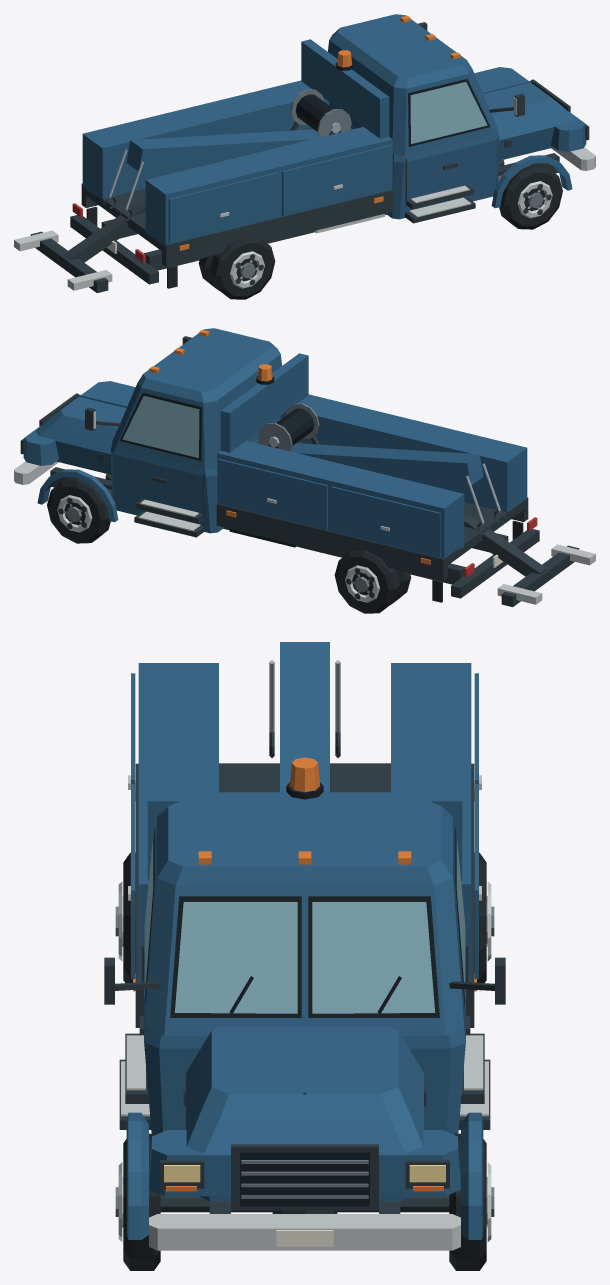
Rendered from b15_wheel_lift_tow_truck.glb.
3 views of the same model, one above another, from view 1: azimuth 30°, elevation 25°; view 2: azimuth 150°, elevation 25°; view 3: azimuth 270°, elevation 25° (orthographic). The views are drawn at different scales.
Visible parts, largest first — view 1: b15_wheel_lift_tow_truck; view 2: b15_wheel_lift_tow_truck; view 3: b15_wheel_lift_tow_truck.
Part boxes in pixels (x1,y1,x2,y2): b15_wheel_lift_tow_truck: (14,14,595,299); b15_wheel_lift_tow_truck: (14,328,595,613); b15_wheel_lift_tow_truck: (104,642,505,1270).
Size of the model in its own units: 8.31 by 2.77 by 2.8.
